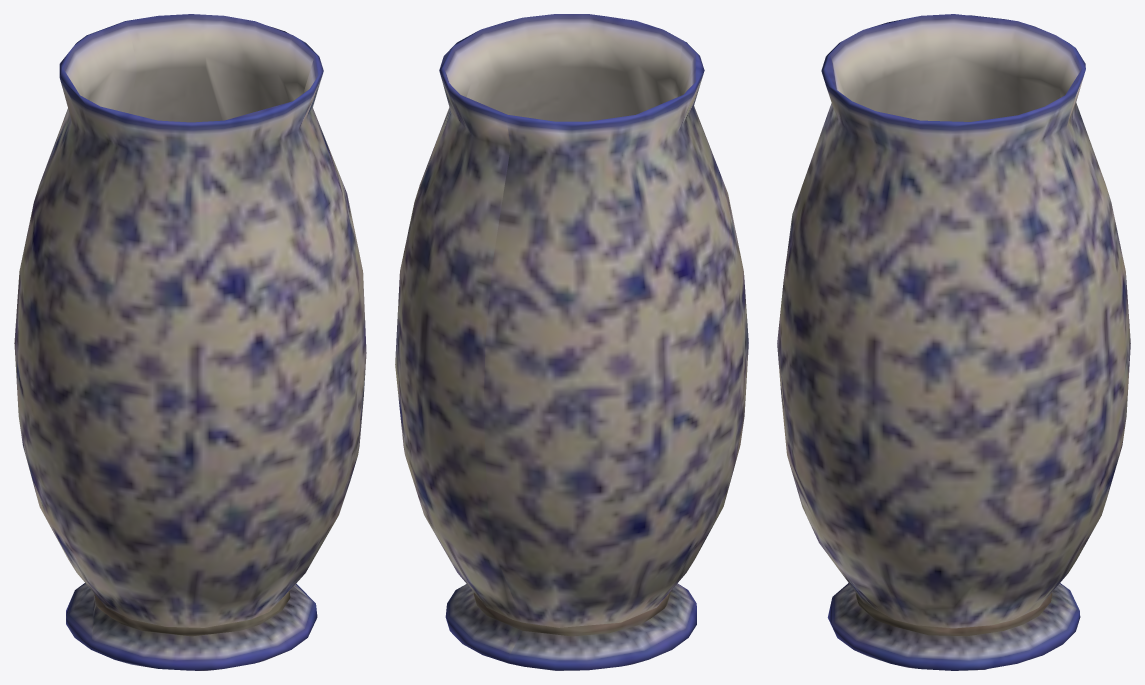
Rendered from antique_ceramic_vase_01.glb.
3 views of the same model, side by side, from view 1: azimuth 30°, elevation 25°; view 2: azimuth 150°, elevation 25°; view 3: azimuth 270°, elevation 25° (orthographic).
Parts seen in each view (by area): view 1: antique_ceramic_vase_01; view 2: antique_ceramic_vase_01; view 3: antique_ceramic_vase_01.
Part boxes in pixels (x1,y1,x2,y2): antique_ceramic_vase_01: (14,14,366,670); antique_ceramic_vase_01: (395,14,748,670); antique_ceramic_vase_01: (777,14,1130,670).
Size of the model in its own units: 0.2534 by 0.4396 by 0.255.
1 material, 1 textured.
